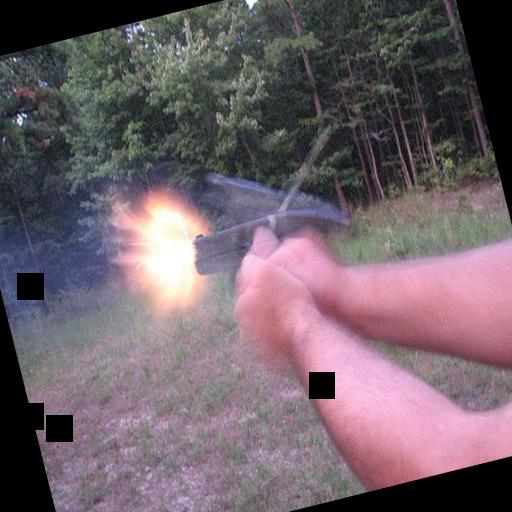Handgun: (179, 193, 344, 318)
